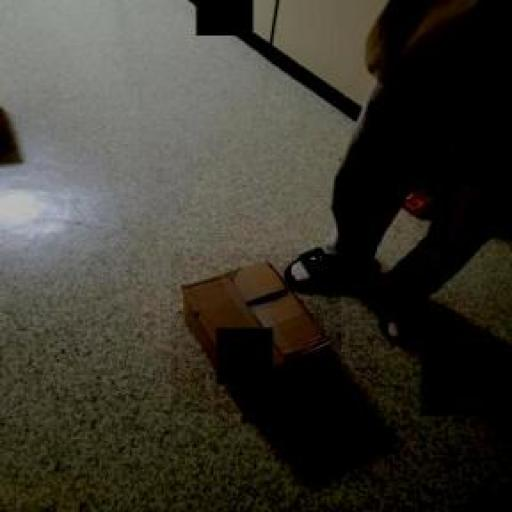box: (171, 254, 341, 412)
